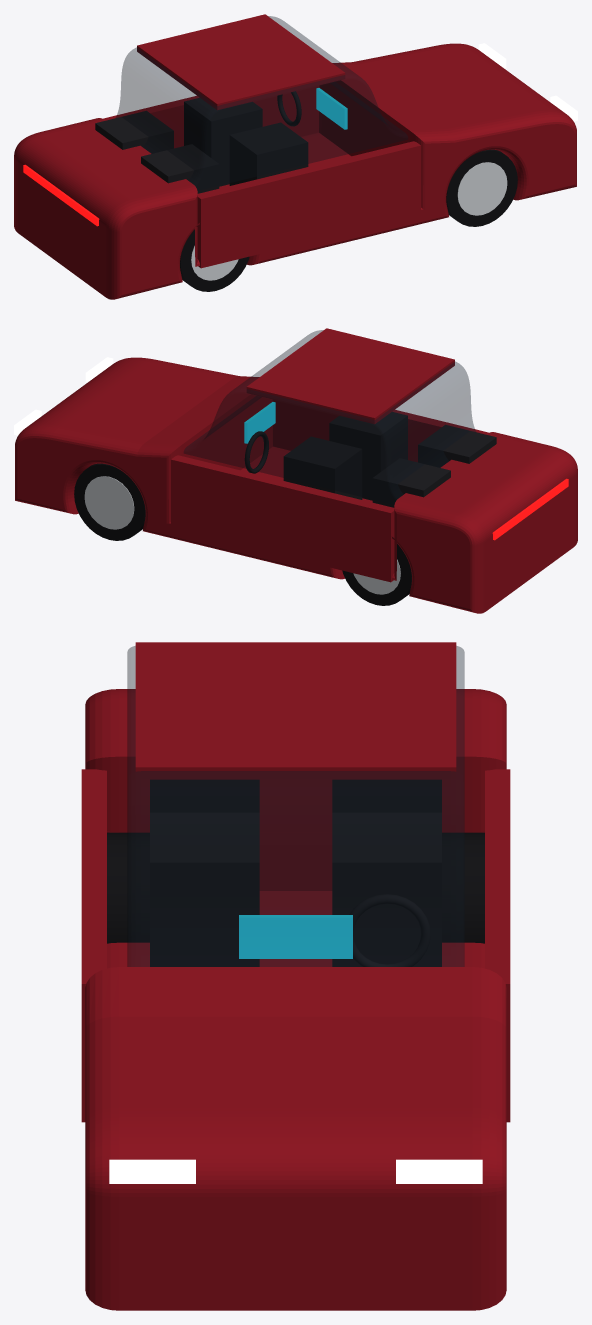
The picture shows the model from 3 angles, top to bottom: view 1: azimuth 30°, elevation 25°; view 2: azimuth 150°, elevation 25°; view 3: azimuth 270°, elevation 25°; orthographic projection. The views are drawn at different scales.
Visible parts, largest first — view 1: Exterior_Body_Shell, Cabin_Window_Glass, Door_Right_Body, Roof_Body_Panel, Interior_Seat_Passenger, Interior_Seat_Driver, Door_Left_Body, Interior_Seat_RearR, Wheel_Tire_FL, Interior_Seat_RearL, Wheel_Rim_FL, Wheel_Tire_RL (+4 smaller); view 2: Exterior_Body_Shell, Cabin_Window_Glass, Door_Left_Body, Roof_Body_Panel, Interior_Seat_Driver, Interior_Seat_Passenger, Door_Right_Body, Interior_Seat_RearL, Wheel_Tire_FR, Interior_Seat_RearR, Wheel_Rim_FR, Wheel_Tire_RR (+4 smaller); view 3: Exterior_Body_Shell, Cabin_Window_Glass, Roof_Body_Panel, Interior_Seat_Passenger, Interior_Seat_Driver, Door_Left_Body, Door_Right_Body, Center_Display_Screen_HUD, Wheel_Tire_RL, Wheel_Tire_RR, Interior_Seat_RearL, Interior_Seat_RearR (+3 smaller).
Part boxes in pixels (x1,y1,x2,y2): Exterior_Body_Shell: [14, 43, 576, 299]; Cabin_Window_Glass: [116, 16, 407, 190]; Door_Right_Body: [197, 141, 420, 268]; Roof_Body_Panel: [137, 14, 345, 110]; Interior_Seat_Passenger: [229, 122, 308, 185]; Interior_Seat_Driver: [184, 98, 262, 186]; Door_Left_Body: [103, 85, 319, 148]; Interior_Seat_RearR: [141, 144, 219, 193]; Wheel_Tire_FL: [446, 149, 517, 226]; Interior_Seat_RearL: [95, 111, 173, 153]; Wheel_Rim_FL: [457, 162, 507, 215]; Wheel_Tire_RL: [180, 230, 249, 291]; Exterior_Body_Shell: [15, 357, 577, 613]; Cabin_Window_Glass: [184, 330, 475, 504]; Door_Left_Body: [171, 455, 394, 582]; Roof_Body_Panel: [246, 328, 454, 424]; Interior_Seat_Driver: [283, 436, 362, 499]; Interior_Seat_Passenger: [329, 412, 407, 500]; Door_Right_Body: [272, 399, 488, 462]; Interior_Seat_RearL: [372, 458, 450, 507]; Wheel_Tire_FR: [74, 463, 145, 540]; Interior_Seat_RearR: [418, 425, 496, 467]; Wheel_Rim_FR: [84, 476, 134, 529]; Wheel_Tire_RR: [342, 544, 411, 605]; Exterior_Body_Shell: [85, 689, 506, 1310]; Cabin_Window_Glass: [127, 646, 464, 966]; Roof_Body_Panel: [135, 642, 456, 779]; Interior_Seat_Passenger: [150, 812, 259, 966]; Interior_Seat_Driver: [332, 812, 441, 966]; Door_Left_Body: [485, 769, 510, 1122]; Door_Right_Body: [81, 769, 106, 1122]; Center_Display_Screen_HUD: [239, 915, 352, 958]; Wheel_Tire_RL: [107, 832, 149, 943]; Wheel_Tire_RR: [442, 832, 484, 943]; Interior_Seat_RearL: [332, 779, 441, 812]; Interior_Seat_RearR: [150, 779, 259, 812].
Bounding box in the file's own units: 4.77 × 1.73 × 1.88.
